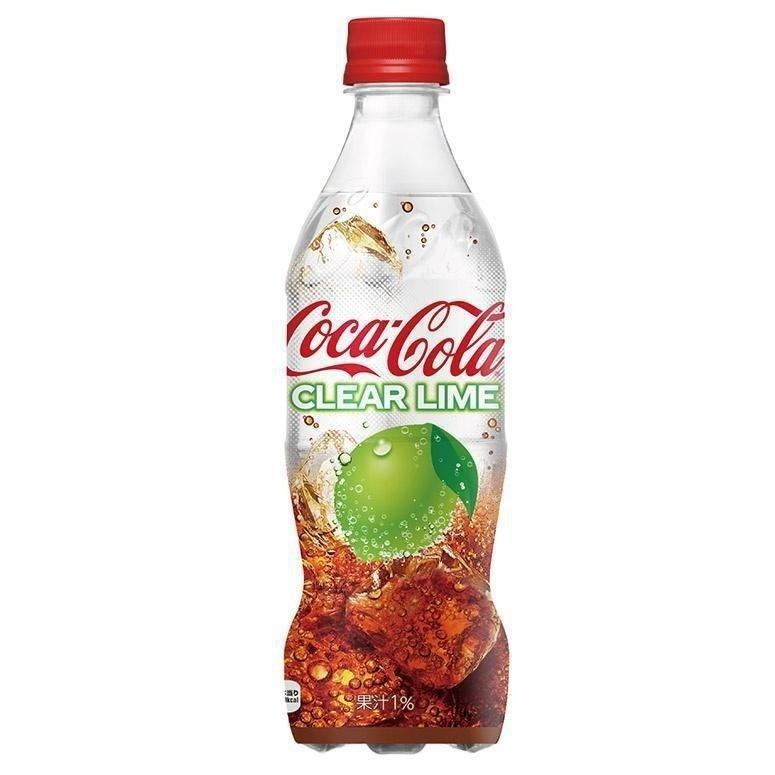bottle-plastic: (277, 7, 512, 756)
